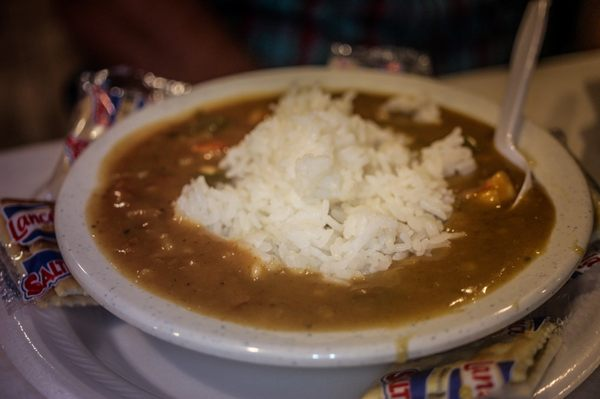salad: (0, 61, 192, 306)
sushi: (53, 63, 585, 386)
